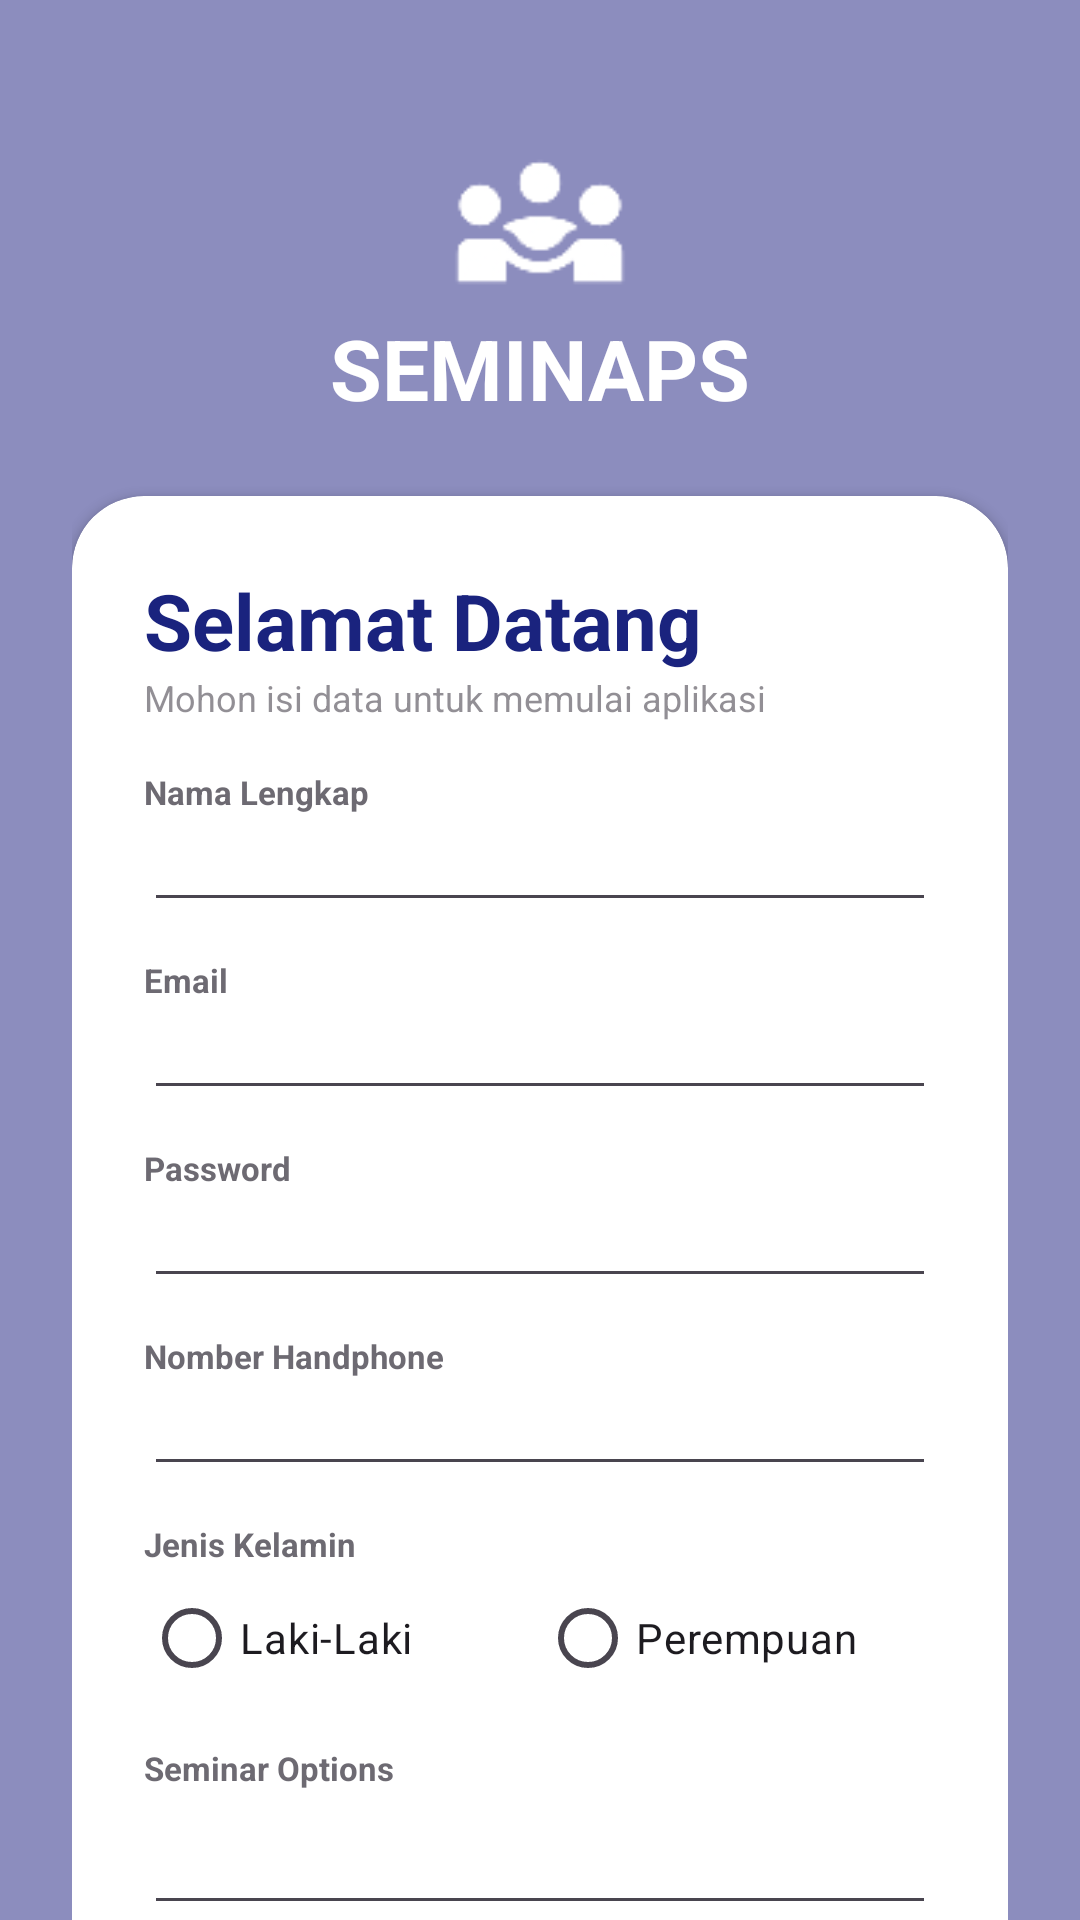

Point at icon controls on the screen. Image size 1080 x 1920, points as (x=x, y=y).
community: (x=540, y=222)
